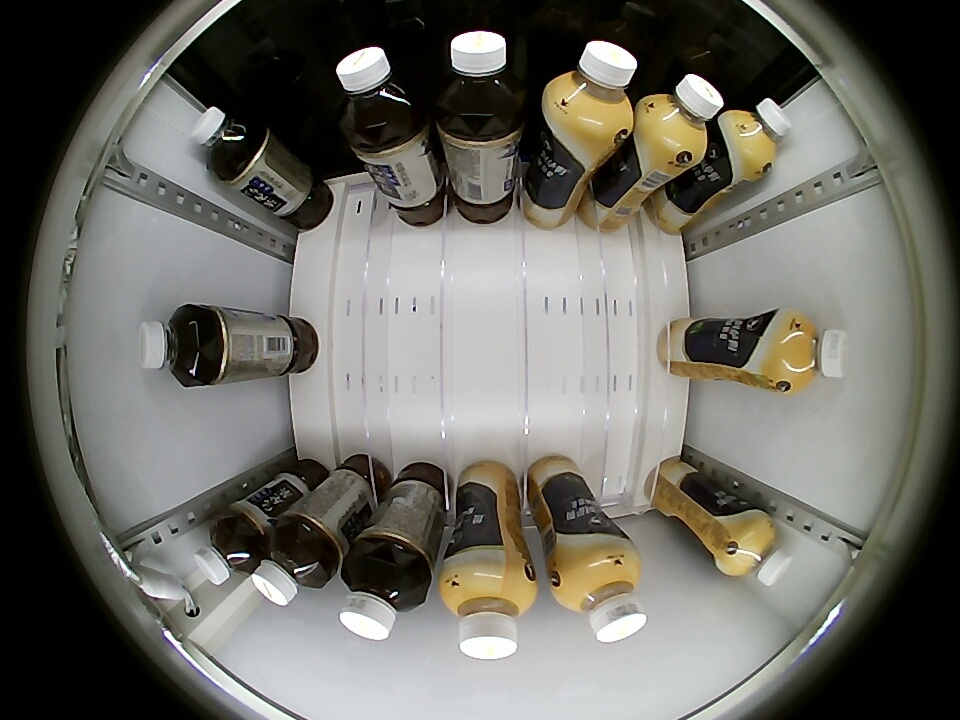asamu: (440, 564, 537, 661), (543, 39, 639, 135), (554, 548, 647, 645), (640, 73, 724, 156), (768, 310, 850, 391), (723, 96, 793, 173), (721, 513, 793, 586)
wulongcha: (432, 29, 528, 130), (335, 46, 425, 142), (339, 552, 428, 642), (252, 525, 333, 607), (137, 304, 213, 386), (191, 105, 260, 178), (193, 516, 259, 586)
